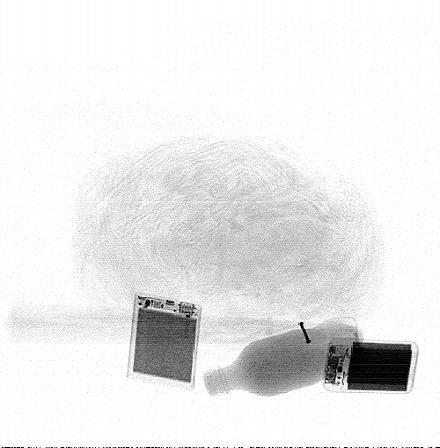Powerbank: (126, 292, 202, 390), (322, 338, 420, 394)
